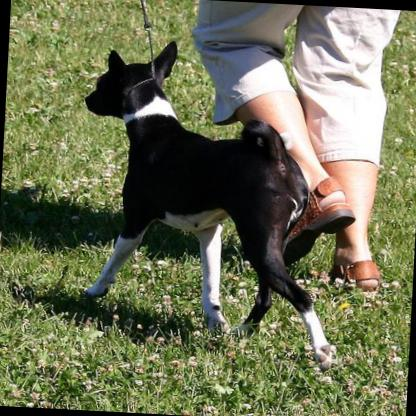basenji: (70, 32, 353, 372)
